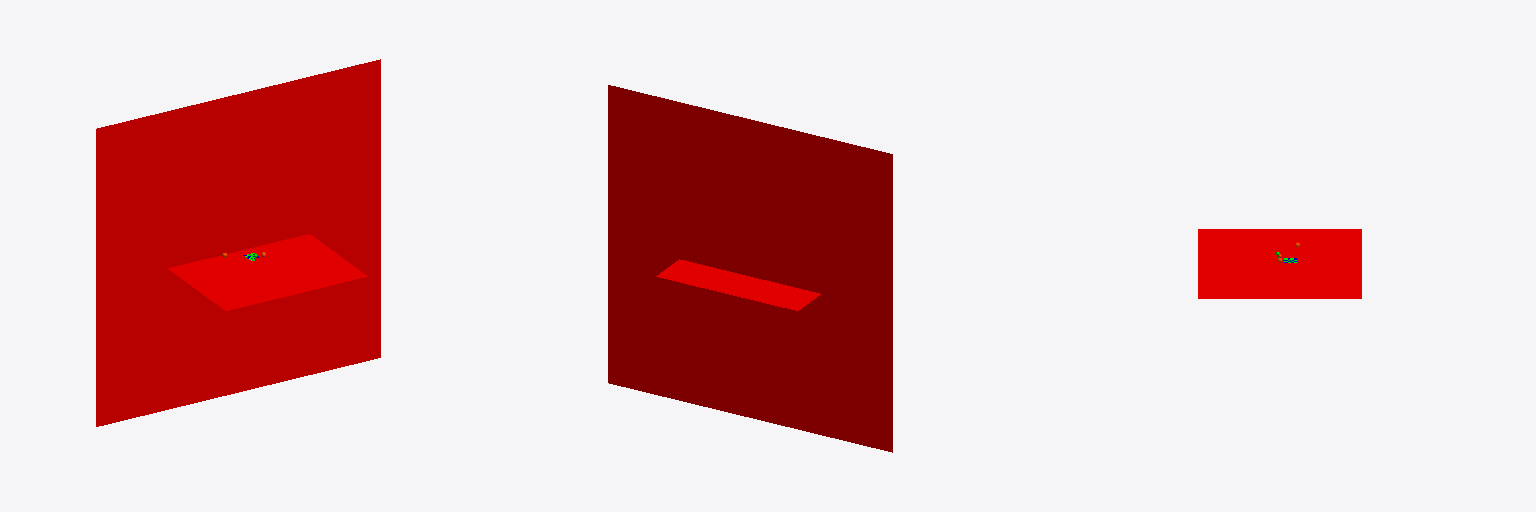
Rendered from susan.obj.
The picture shows the model from 3 angles: view 1: azimuth 30°, elevation 25°; view 2: azimuth 150°, elevation 25°; view 3: azimuth 270°, elevation 25°; orthographic projection.
Parts seen in each view (by area): view 1: Plane, Plane.001; view 2: Plane, Plane.001; view 3: Plane.001.
Boxes of the visible parts, <box> form: Plane: <box>96,59,380,426</box>; Plane.001: <box>168,234,367,310</box>; Plane: <box>608,85,892,452</box>; Plane.001: <box>656,259,820,310</box>; Plane.001: <box>1198,229,1361,298</box>.
Bounding box in the file's own units: 189 × 189 × 94.5.